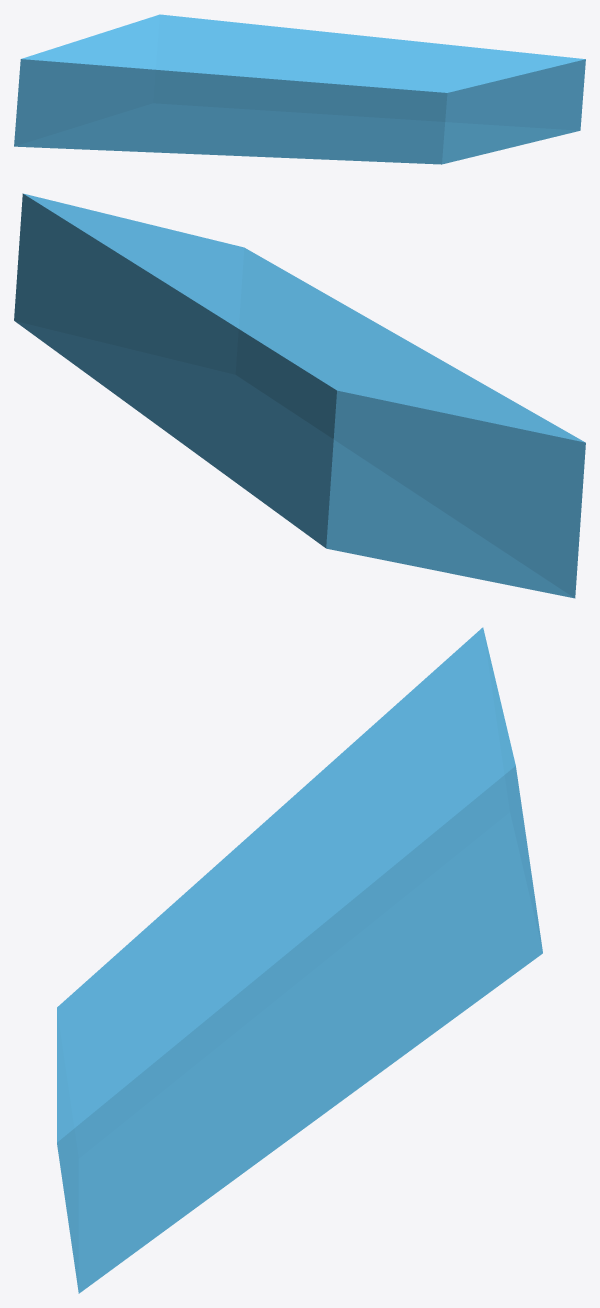
The model's file is Event_420604493_HBrechit_22.fbx.
3 views of the same model, one above another, from view 1: azimuth 30°, elevation 25°; view 2: azimuth 150°, elevation 25°; view 3: azimuth 270°, elevation 25° (orthographic). The views are drawn at different scales.
Parts seen in each view (by area): view 1: Model; view 2: Model; view 3: Model.
Boxes of the visible parts, left/top/right/bottom form: Model: left=14, top=14, right=585, bottom=164; Model: left=14, top=193, right=585, bottom=598; Model: left=57, top=627, right=542, bottom=1293.
Bounding box in the file's own units: 2.53 × 0.5915 × 1.16.
